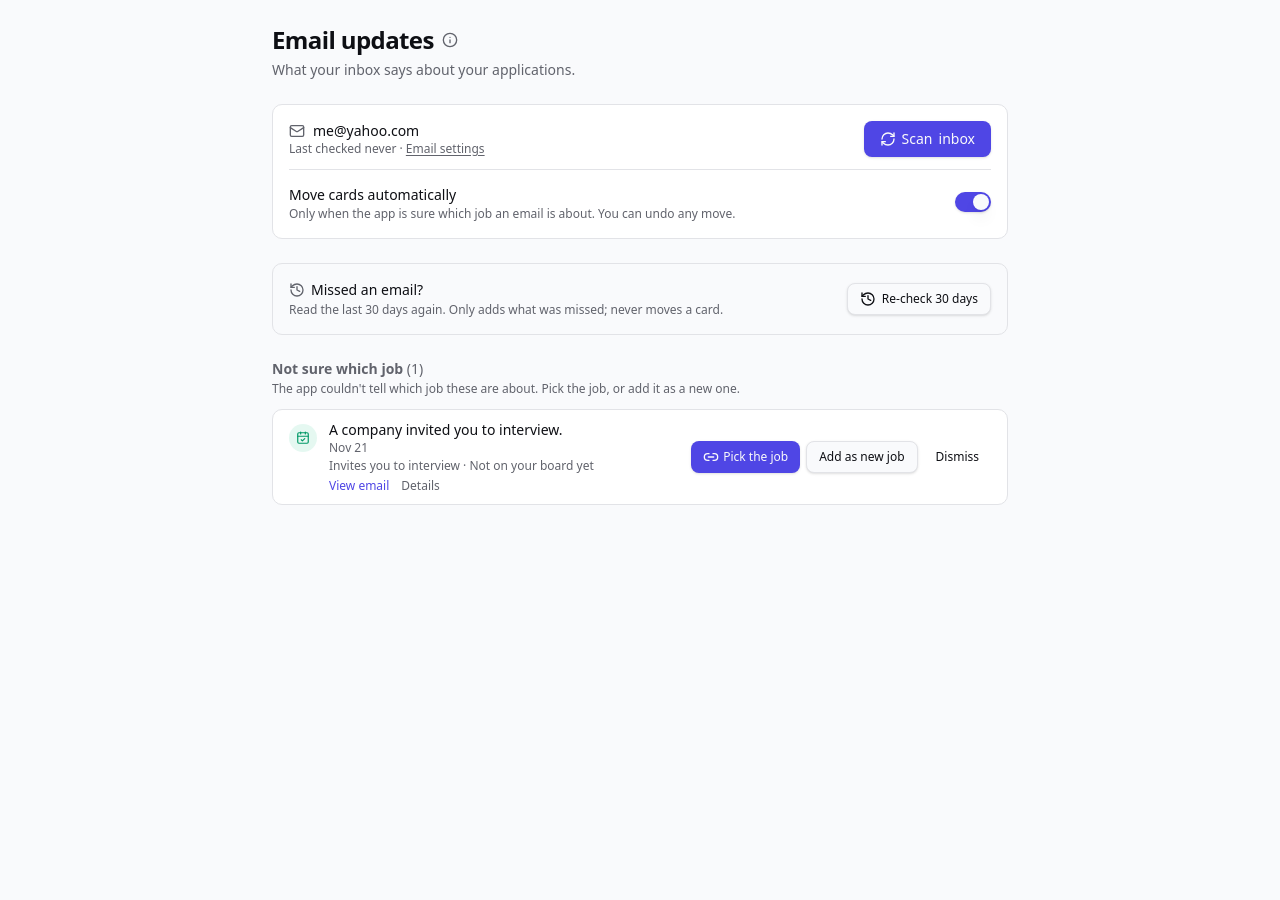
Test: an update about a job the app couldn't place › has one main choice: pick the job
Expected: the heading "Not sure which job (1)" is shown, [272,359,423,378]
Click the button "Pick the job" at (746, 457), box [691,441,800,473]
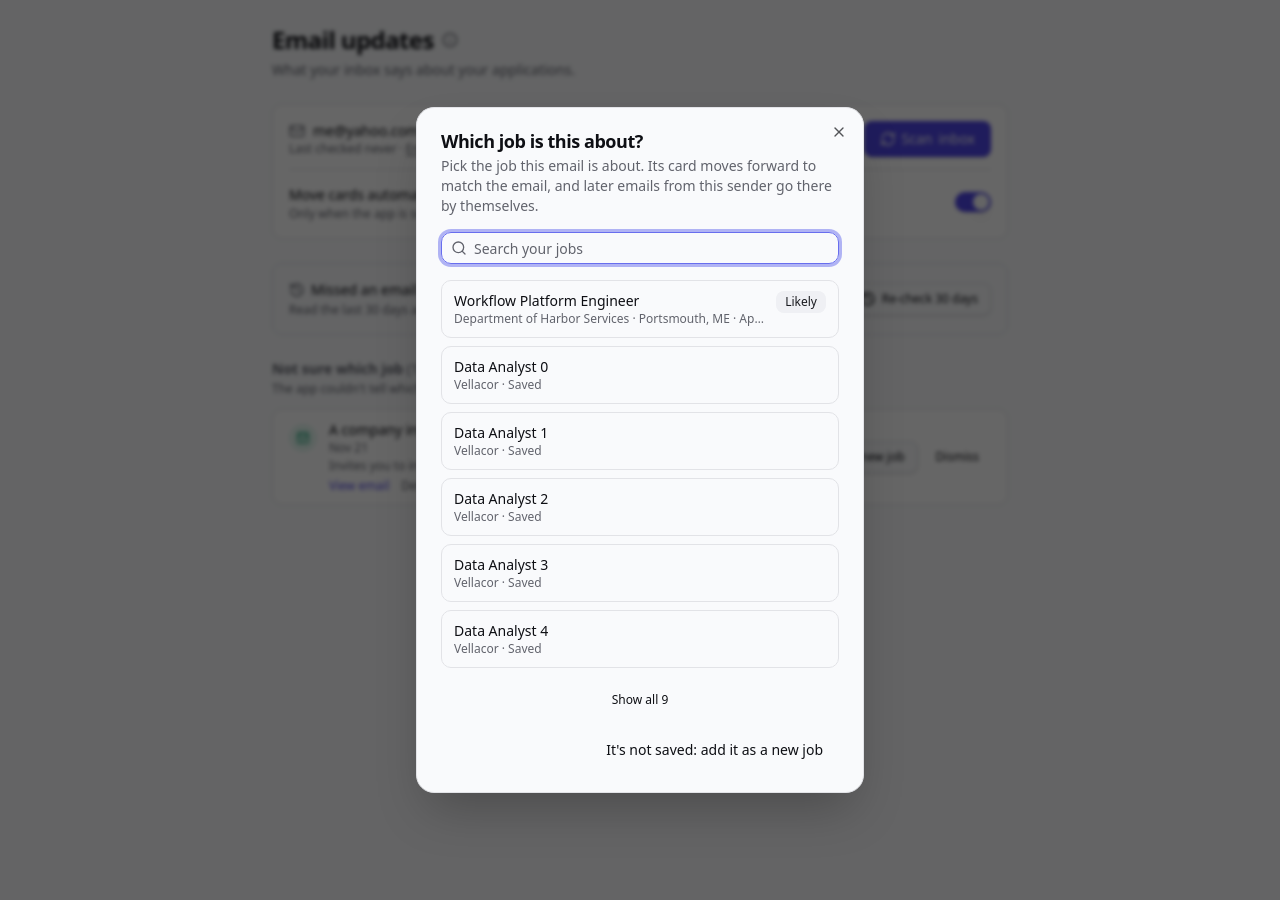
Click the button "Workflow Platform Engineer" at (640, 309), box [441,280,839,338]
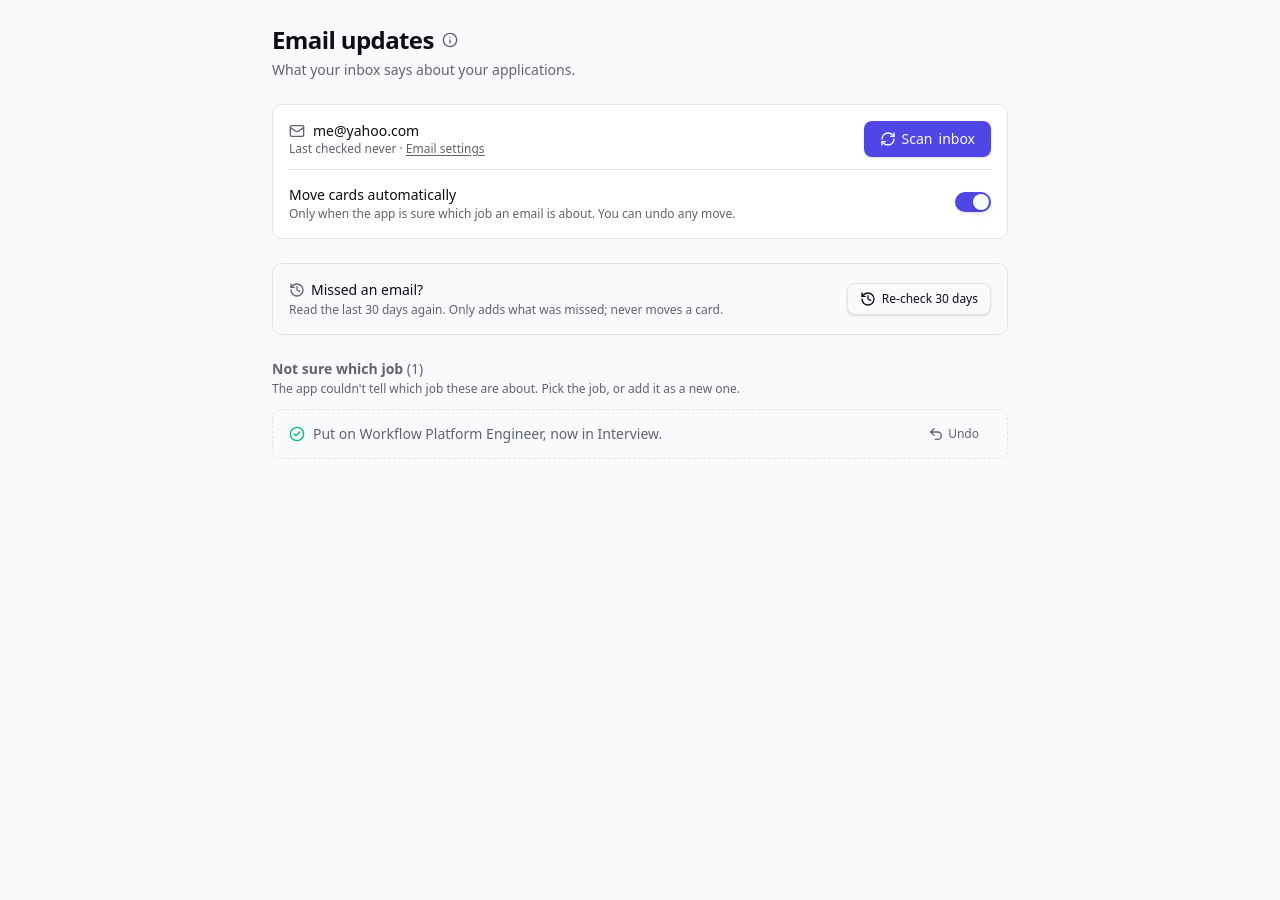
// Undo lists the update again, to link elsewhere or add as a new job.
Click the button "Undo" at (954, 434), box [916,418,991,450]
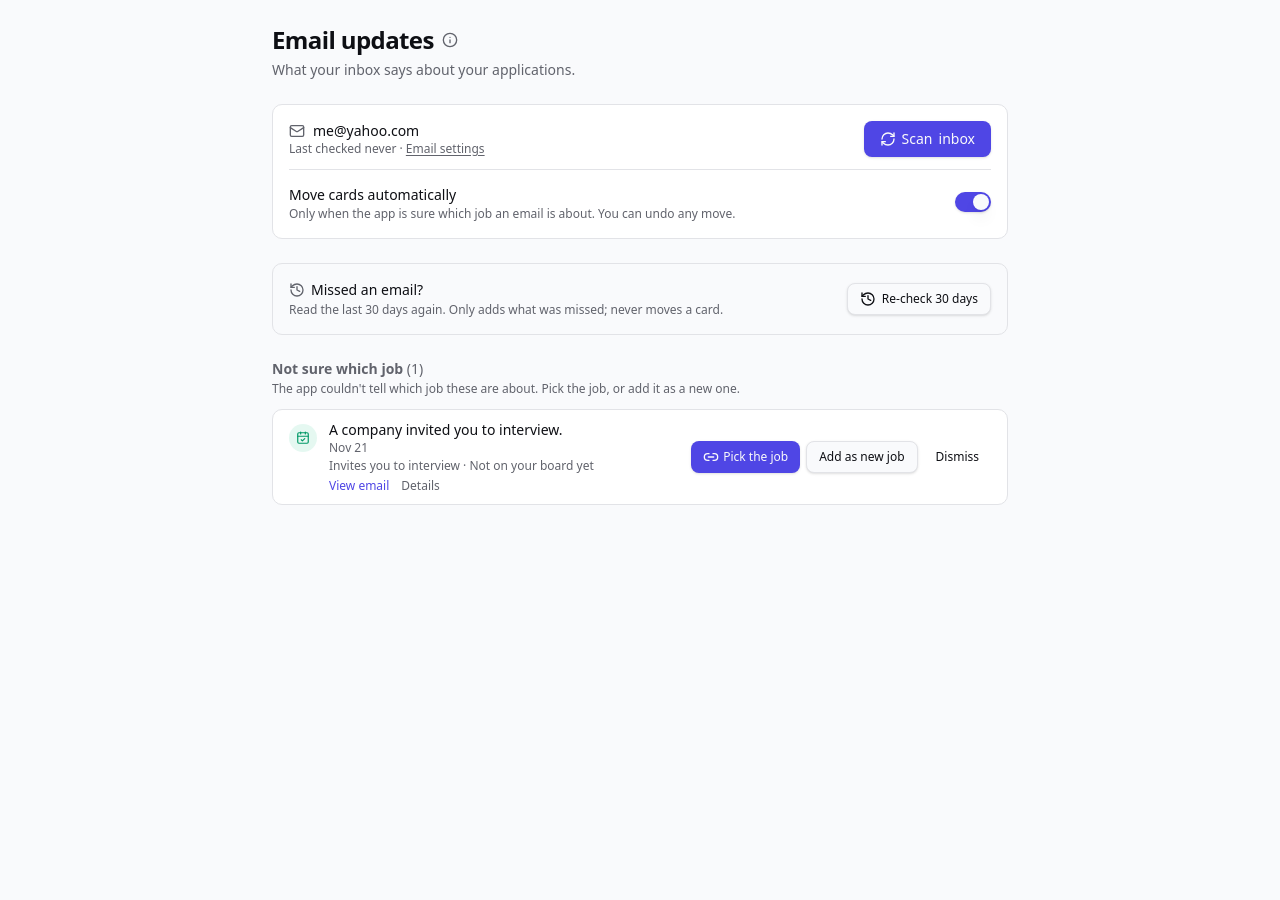
Expected: the button "Pick the job" is shown, [691,441,800,473]
